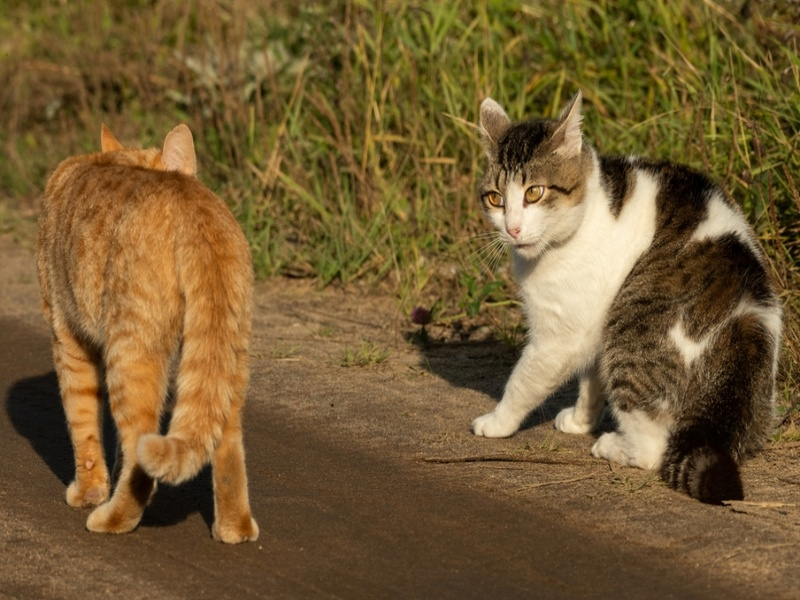cat: (467, 92, 782, 502), (28, 119, 268, 548)
